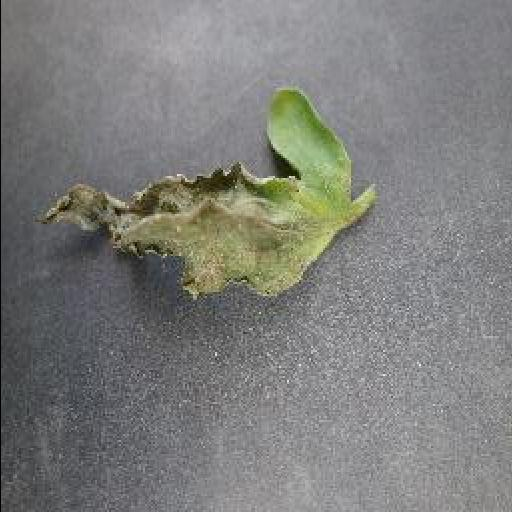disease_tomato: (34, 90, 352, 302)
